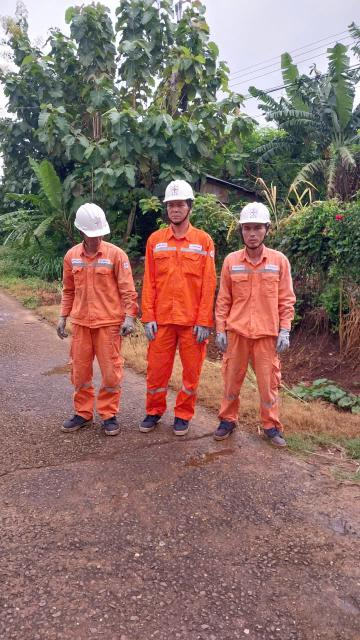gloves: (142, 315, 168, 346), (112, 310, 139, 339), (271, 321, 292, 356), (212, 325, 234, 358), (192, 315, 213, 343), (53, 311, 70, 342)
helmet: (63, 201, 124, 242), (145, 171, 207, 206), (228, 201, 280, 228)
shoes: (44, 397, 97, 433), (257, 412, 295, 450), (98, 403, 127, 442), (216, 414, 243, 444), (172, 405, 195, 438), (142, 408, 163, 439)
